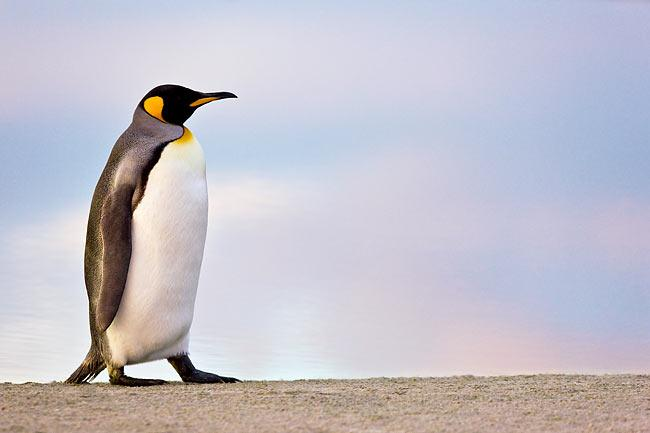king: (61, 61, 263, 406)
